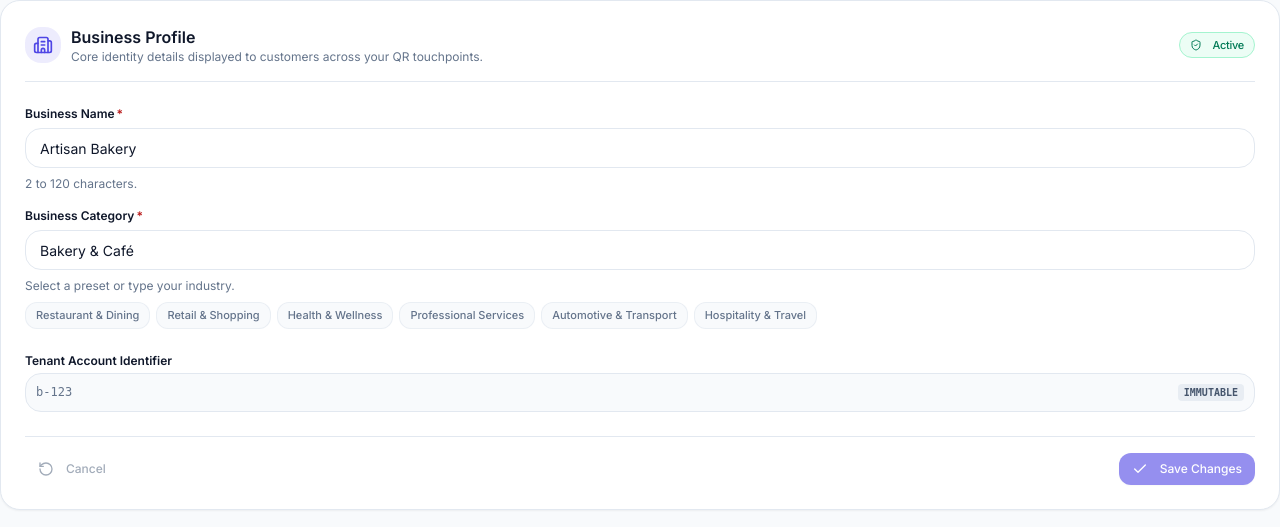
Test: BusinessProfileForm Component › validates name length (2 to 120 chars) and disables Save when invalid or pristine
Expected: the button "Save Changes" is disabled, [1119,453,1255,485]
Replace the text in the field labelled "Business Name*" with "A" at (640, 148), box [25,128,1255,168]
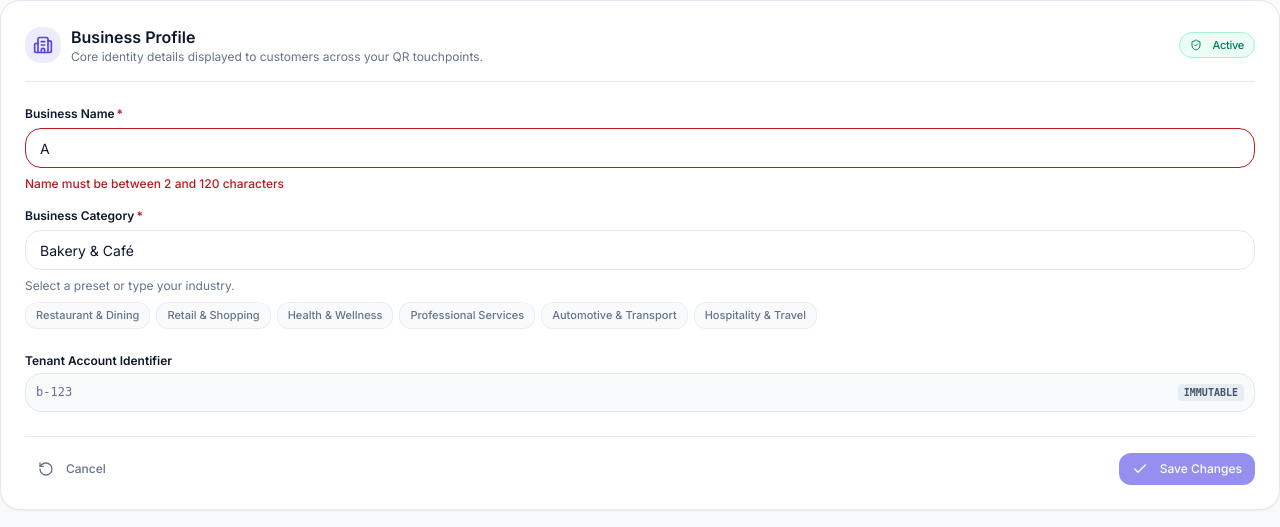
Expected: the button "Save Changes" is disabled, [1119,453,1255,485]
Expected: the text "Name must be between 2 and 120 characters" is shown, [25,176,284,191]
Note: Type valid name
Replace the text in the field labelled "Business Name*" with "New Bakery" at (640, 148), box [25,128,1255,168]
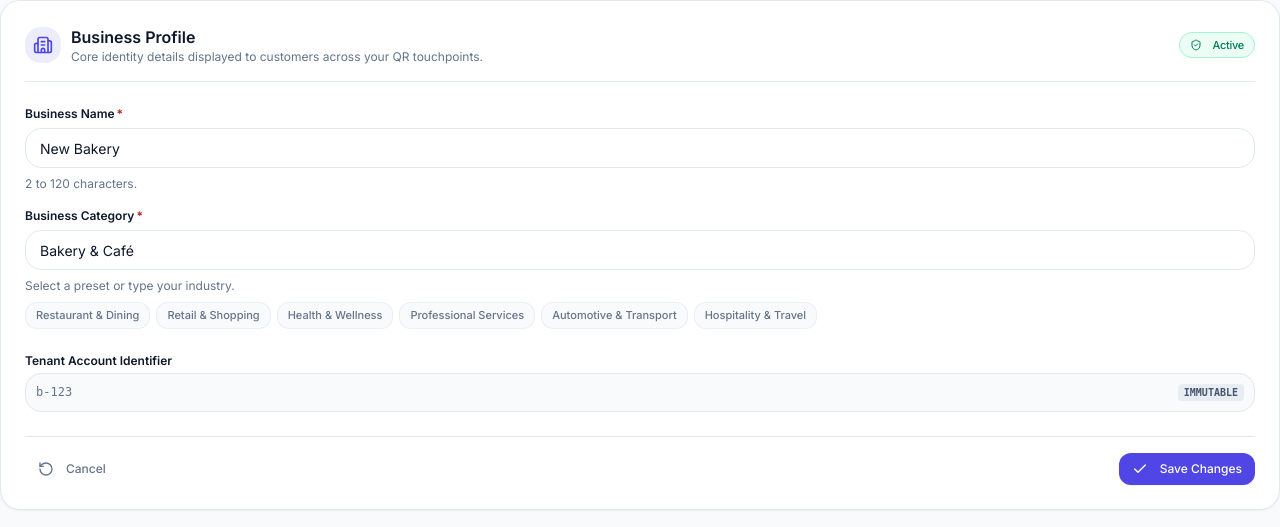
Expected: the text "Name must be between 2 and 120 characters" is gone
Expected: the button "Save Changes" is enabled, [1119,453,1255,485]
